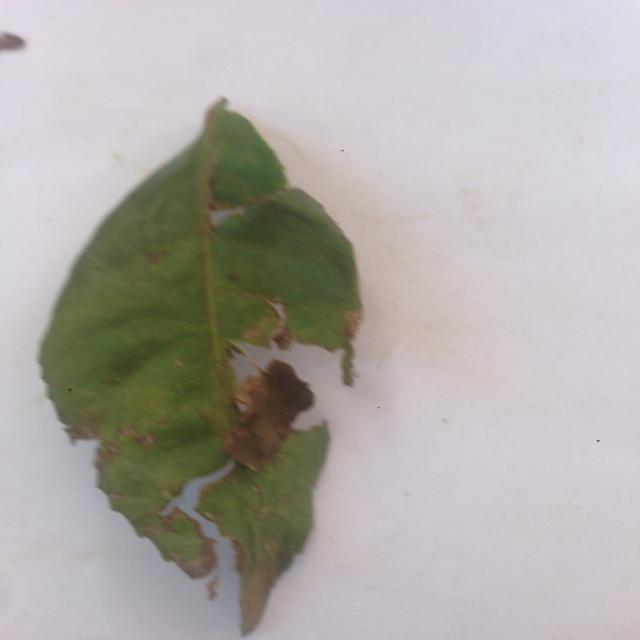Brown Blight: (29, 98, 382, 640)
